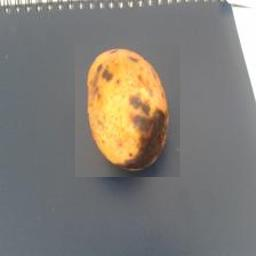Mango Rotten: (75, 45, 180, 177)
